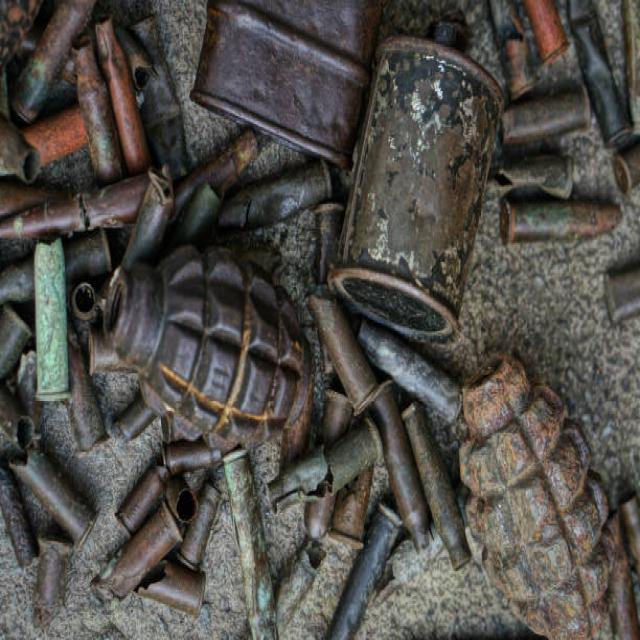grenade: (92, 222, 317, 463), (460, 349, 618, 640)
